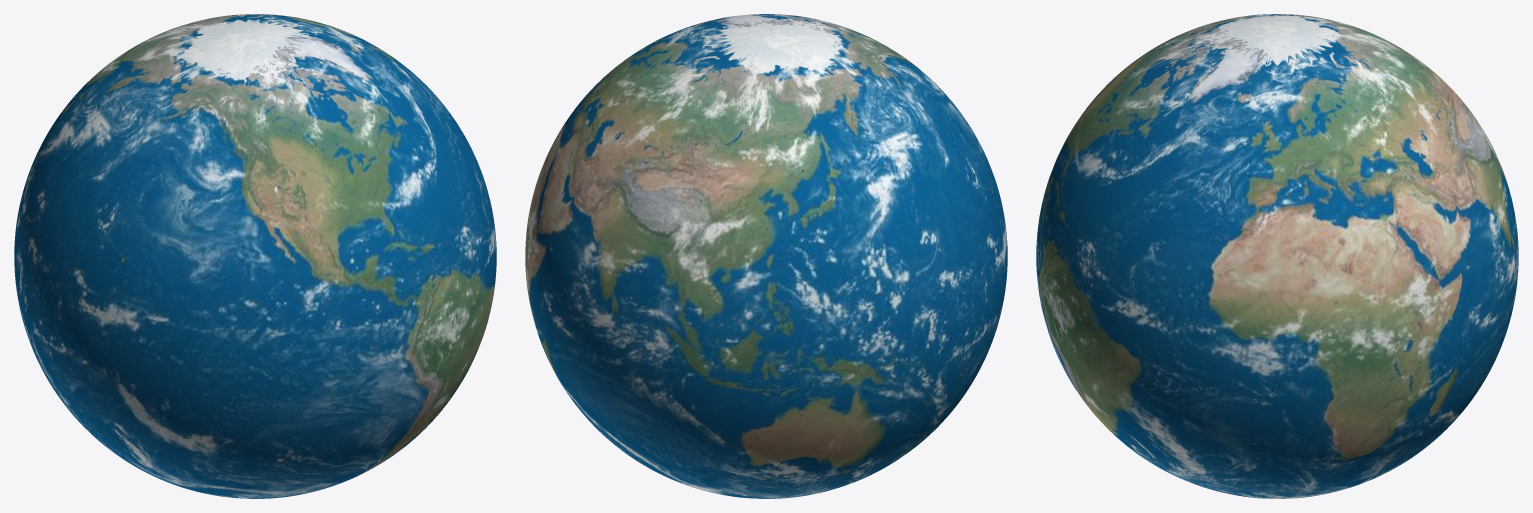
The model's file is earth-compressed.glb.
The picture shows the model from 3 angles, left to right: view 1: azimuth 30°, elevation 25°; view 2: azimuth 150°, elevation 25°; view 3: azimuth 270°, elevation 25°; orthographic projection.
Visible parts, largest first — view 1: Object_4; view 2: Object_4; view 3: Object_4.
Part boxes in pixels (<box>): Object_4: <box>14,14,496,498</box>; Object_4: <box>525,14,1007,498</box>; Object_4: <box>1036,14,1518,498</box>.
Bounding box in the file's own units: 2.23 × 2.25 × 2.23.
1 material, 1 textured.
